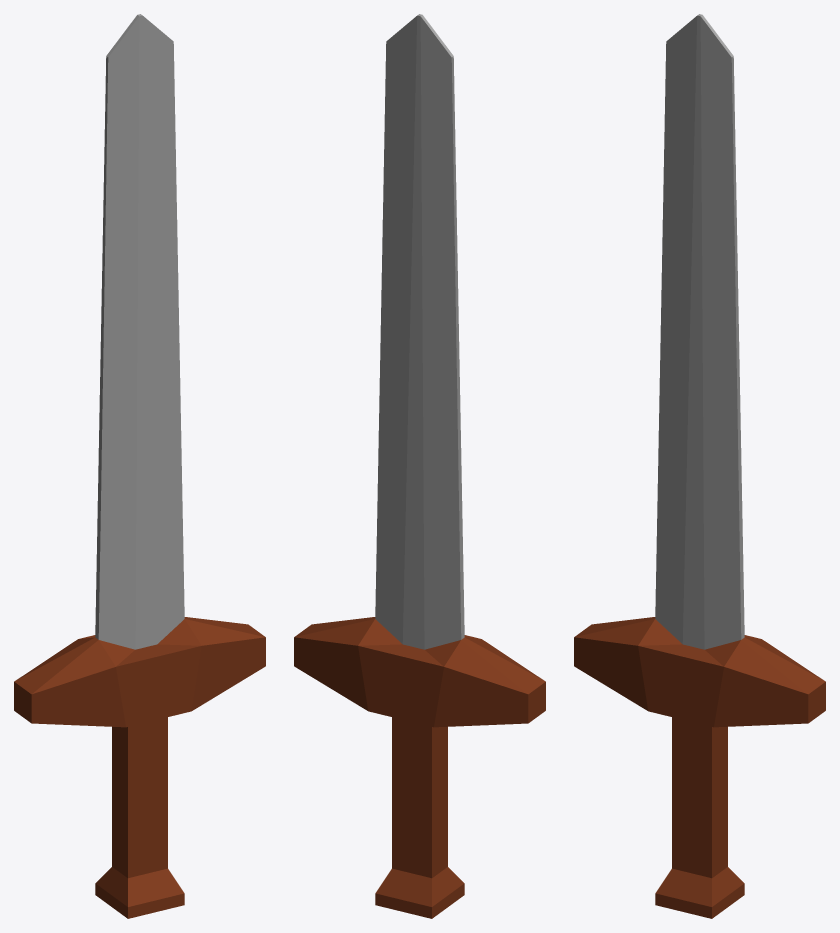
Rendered from Sword.fbx.
3 views of the same model, side by side, from view 1: azimuth 30°, elevation 25°; view 2: azimuth 150°, elevation 25°; view 3: azimuth 330°, elevation 25° (orthographic).
Parts seen in each view (by area): view 1: Sword; view 2: Sword; view 3: Sword.
Boxes of the visible parts, <box> form: Sword: <box>14,14,265,918</box>; Sword: <box>294,14,545,918</box>; Sword: <box>574,14,825,918</box>.
Size of the model in its own units: 35.75 by 130 by 10.
